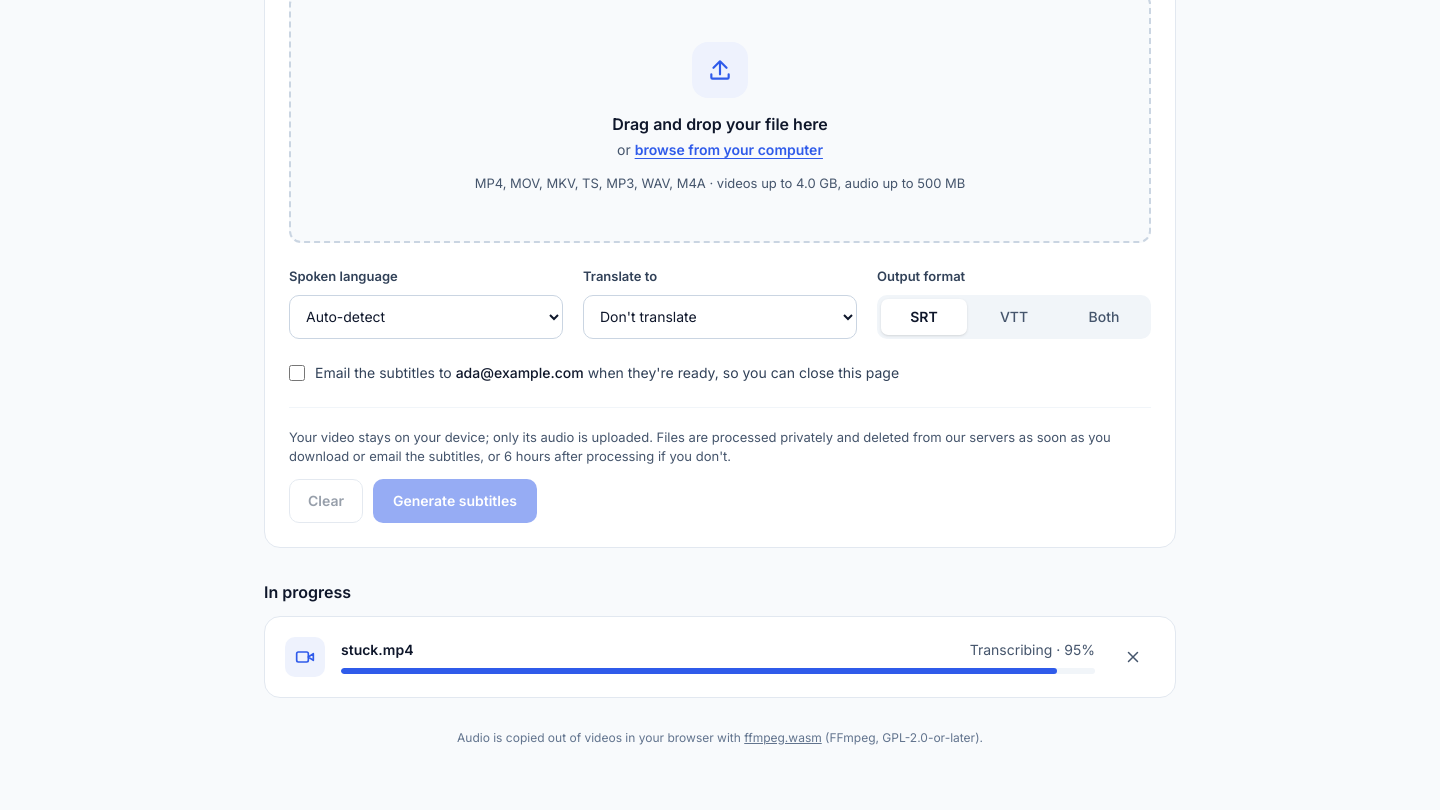
Test: deleting an upload › stops and deletes an upload the server is still transcribing
The image size is (1440, 810).
(page scrolled)
Click the button named "Stop and delete".
click(1133, 656)  # box x1=1111 y1=634 x2=1155 y2=678
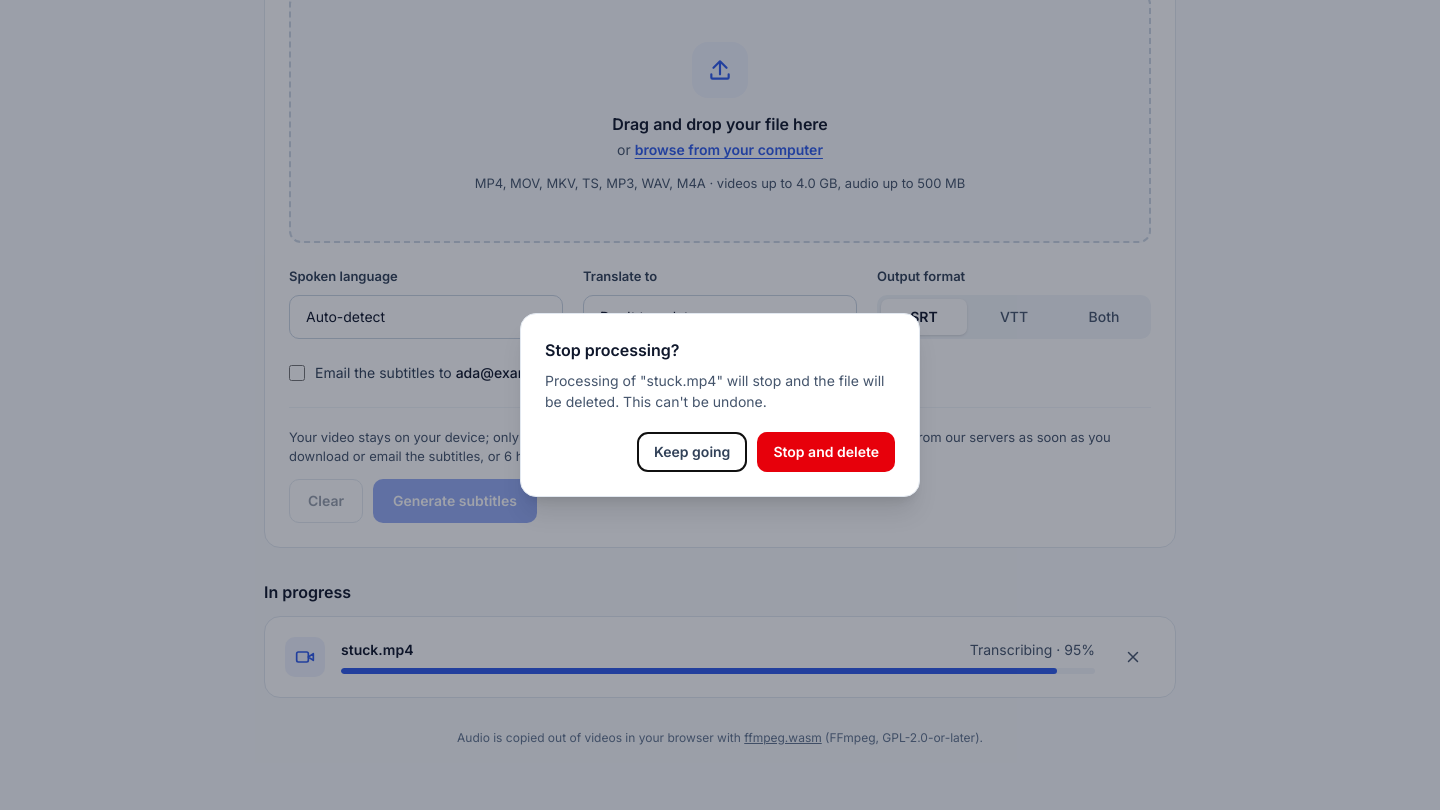
Expected: the dialog shows "Stop processing?", x1=545 y1=340 x2=679 y2=360
Expected: the dialog shows "Processing of \"stuck.mp4\" will stop and the file will be deleted. This can't be undone.", x1=545 y1=372 x2=884 y2=410
Expected: the button "Keep going" is shown, x1=637 y1=432 x2=747 y2=472
Click the button "Stop and delete".
click(826, 452)  # box x1=757 y1=432 x2=895 y2=472
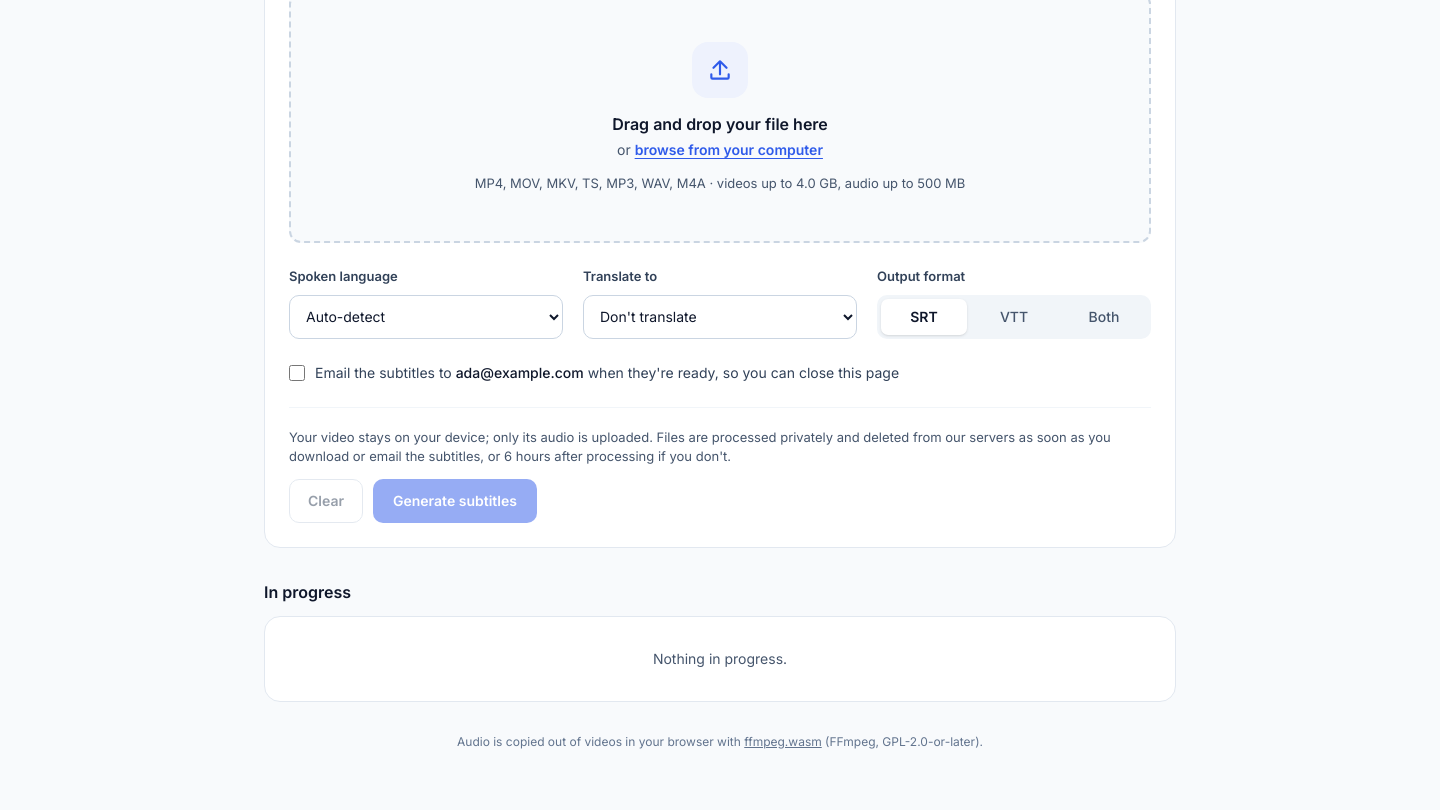
Expected: the text "Nothing in progress." is shown, x1=264 y1=616 x2=1176 y2=702
